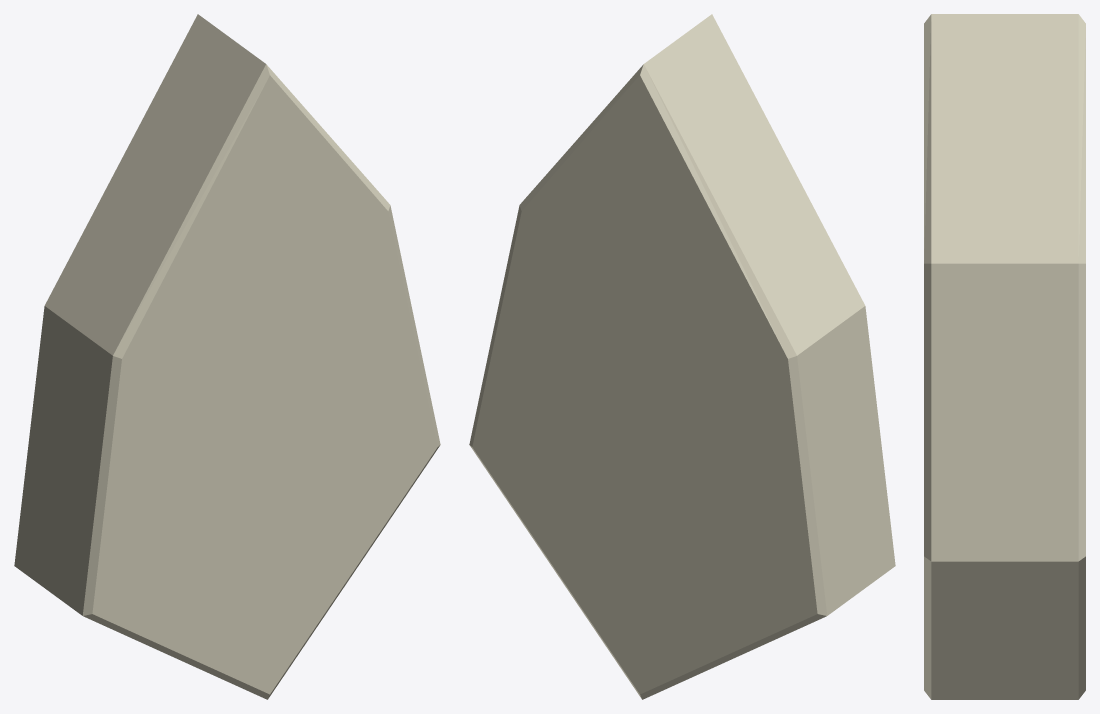
Rendered from primitive-crafting-workshop-flint-handaxe-08cecb49__21532.glb.
The picture shows the model from 3 angles, left to right: view 1: azimuth 30°, elevation 25°; view 2: azimuth 150°, elevation 25°; view 3: azimuth 270°, elevation 25°; orthographic projection. The views are drawn at different scales.
Parts seen in each view (by area): view 1: flint-handaxe; view 2: flint-handaxe; view 3: flint-handaxe.
Boxes of the visible parts, <box> form: flint-handaxe: <box>14,14,440,699</box>; flint-handaxe: <box>469,14,895,699</box>; flint-handaxe: <box>924,14,1085,699</box>.
Bounding box in the file's own units: 0.1814 × 0.3082 × 0.066.
